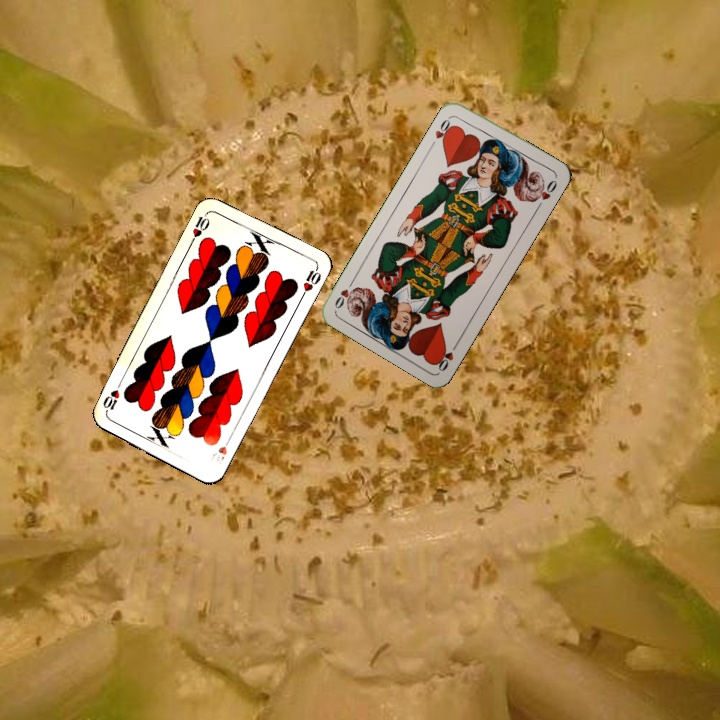H10: (187, 208, 212, 246), (207, 432, 234, 466)
HO: (427, 112, 457, 149), (432, 337, 462, 374)
